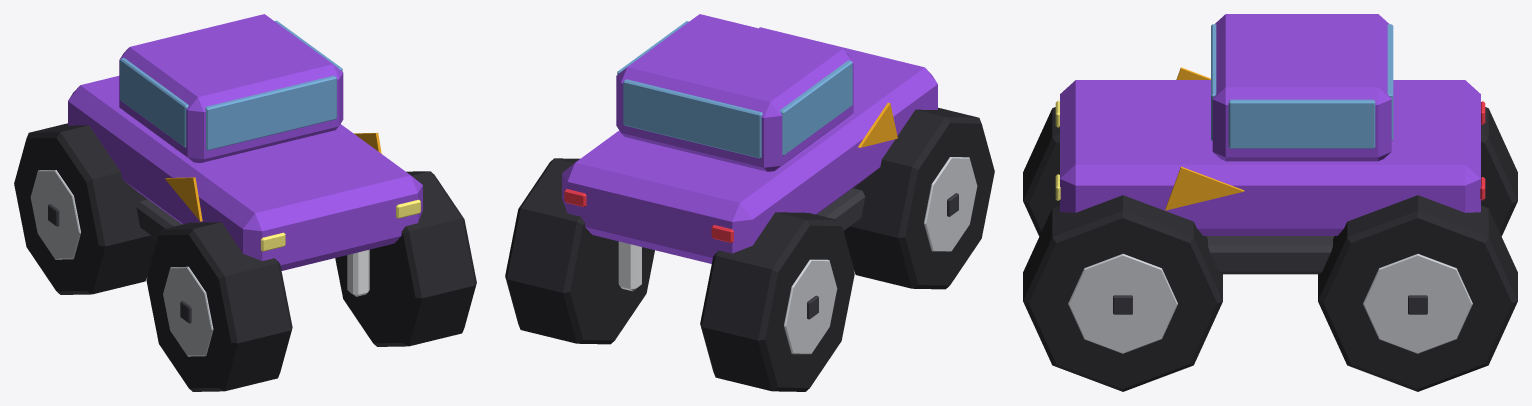
File: MonsterTruck.fbx
The picture shows the model from 3 angles, left to right: view 1: azimuth 30°, elevation 25°; view 2: azimuth 150°, elevation 25°; view 3: azimuth 270°, elevation 25°; orthographic projection. The views are drawn at different scales.
Visible parts, largest first — view 1: MonsterTruck, MonsterTruck_WheelFR, MonsterTruck_WheelBR, MonsterTruck_WheelFL; view 2: MonsterTruck, MonsterTruck_WheelBR, MonsterTruck_WheelFR, MonsterTruck_WheelBL; view 3: MonsterTruck, MonsterTruck_WheelBL, MonsterTruck_WheelFL, MonsterTruck_WheelBR, MonsterTruck_WheelFR.
Part boxes in pixels (left/top/right/bottom): MonsterTruck: left=68, top=14, right=422, bottom=296; MonsterTruck_WheelFR: left=146, top=222, right=292, bottom=391; MonsterTruck_WheelBR: left=14, top=123, right=157, bottom=294; MonsterTruck_WheelFL: left=335, top=171, right=476, bottom=346; MonsterTruck: left=562, top=14, right=937, bottom=291; MonsterTruck_WheelBR: left=700, top=212, right=854, bottom=391; MonsterTruck_WheelFR: left=843, top=107, right=994, bottom=289; MonsterTruck_WheelBL: left=505, top=158, right=654, bottom=344; MonsterTruck: left=1055, top=14, right=1485, bottom=274; MonsterTruck_WheelBL: left=1318, top=195, right=1517, bottom=391; MonsterTruck_WheelFL: left=1023, top=195, right=1222, bottom=391; MonsterTruck_WheelBR: left=1481, top=107, right=1517, bottom=236; MonsterTruck_WheelFR: left=1023, top=107, right=1059, bottom=236.
Size of the model in its own units: 6.22 by 5.8 by 9.4.
1 material, 1 textured.
